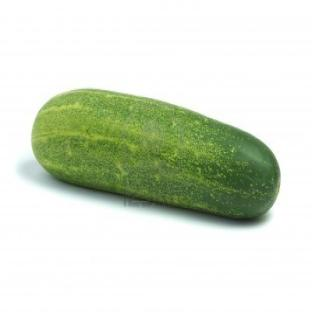Cucumber: (32, 90, 280, 218)
